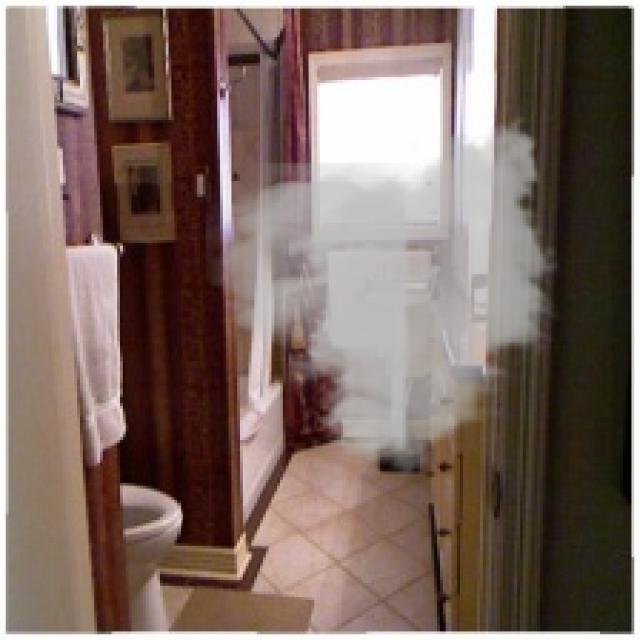Smoke: (206, 106, 563, 486)
